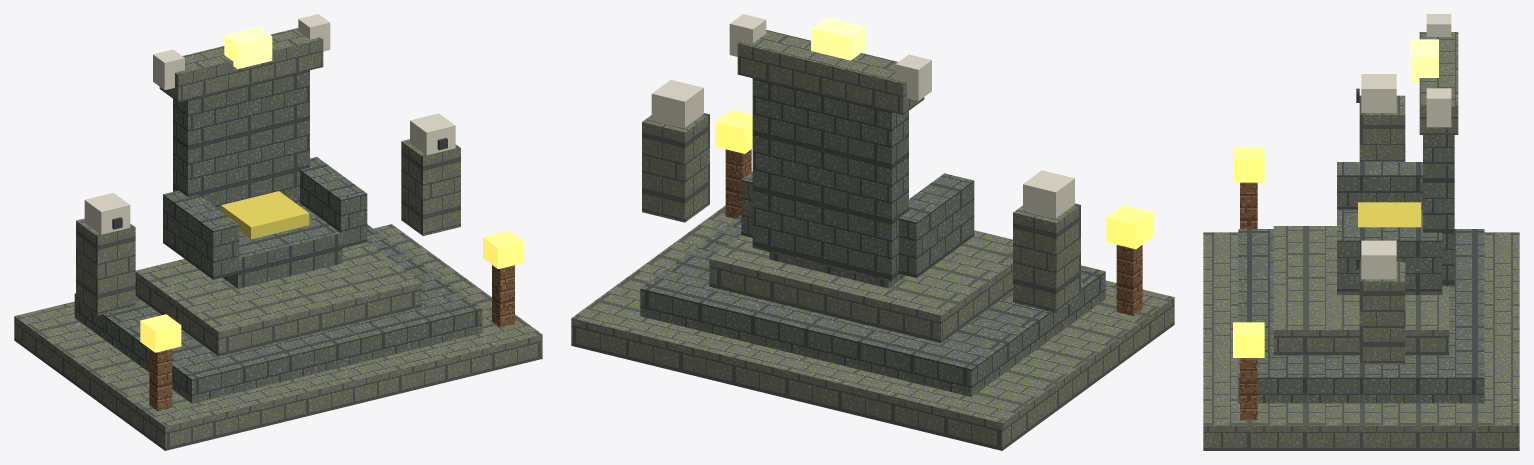
File: macacos_trono.glb
3 renders of one model, left to right at view 1: azimuth 30°, elevation 25°; view 2: azimuth 150°, elevation 25°; view 3: azimuth 270°, elevation 25°, orthographic. The views are drawn at different scales.
Parts seen in each view (by area): view 1: macacos_trono; view 2: macacos_trono; view 3: macacos_trono.
Boxes of the visible parts, x1=… form: macacos_trono: x1=14, y1=14, x2=542, y2=450; macacos_trono: x1=571, y1=14, x2=1174, y2=450; macacos_trono: x1=1203, y1=14, x2=1519, y2=450.
Bounding box in the file's own units: 13 × 9.6 × 9.
Materials: 8 (3 with a texture image).
